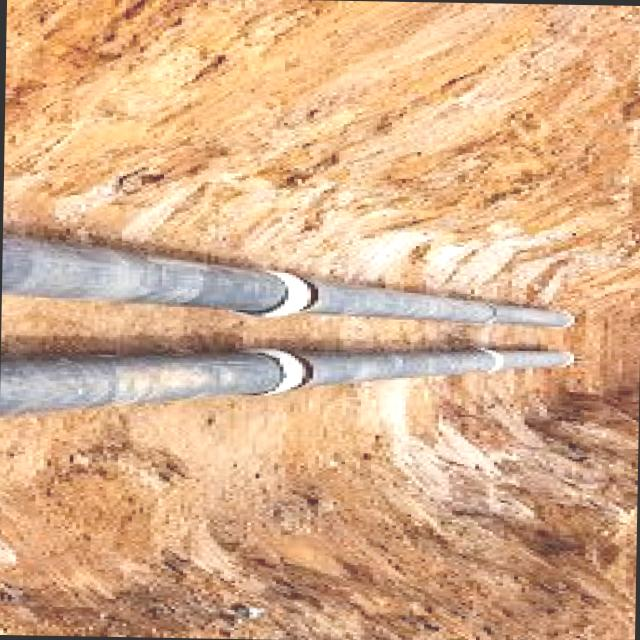gas: (0, 348, 572, 415), (0, 236, 285, 312), (303, 281, 572, 327)
